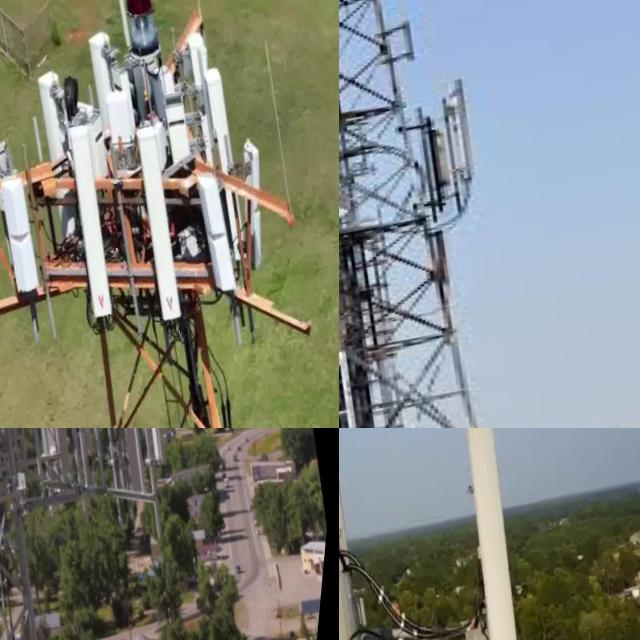GSM Antenna: (49, 116, 141, 335), (117, 111, 209, 329), (468, 428, 531, 640), (223, 127, 295, 272), (186, 164, 258, 306), (62, 428, 179, 509), (339, 472, 392, 640), (33, 428, 130, 515), (0, 166, 60, 303), (0, 428, 104, 501), (76, 23, 142, 130), (191, 64, 251, 175), (32, 60, 83, 153), (179, 25, 223, 99)
Microwave Antenna: (339, 182, 368, 225)
